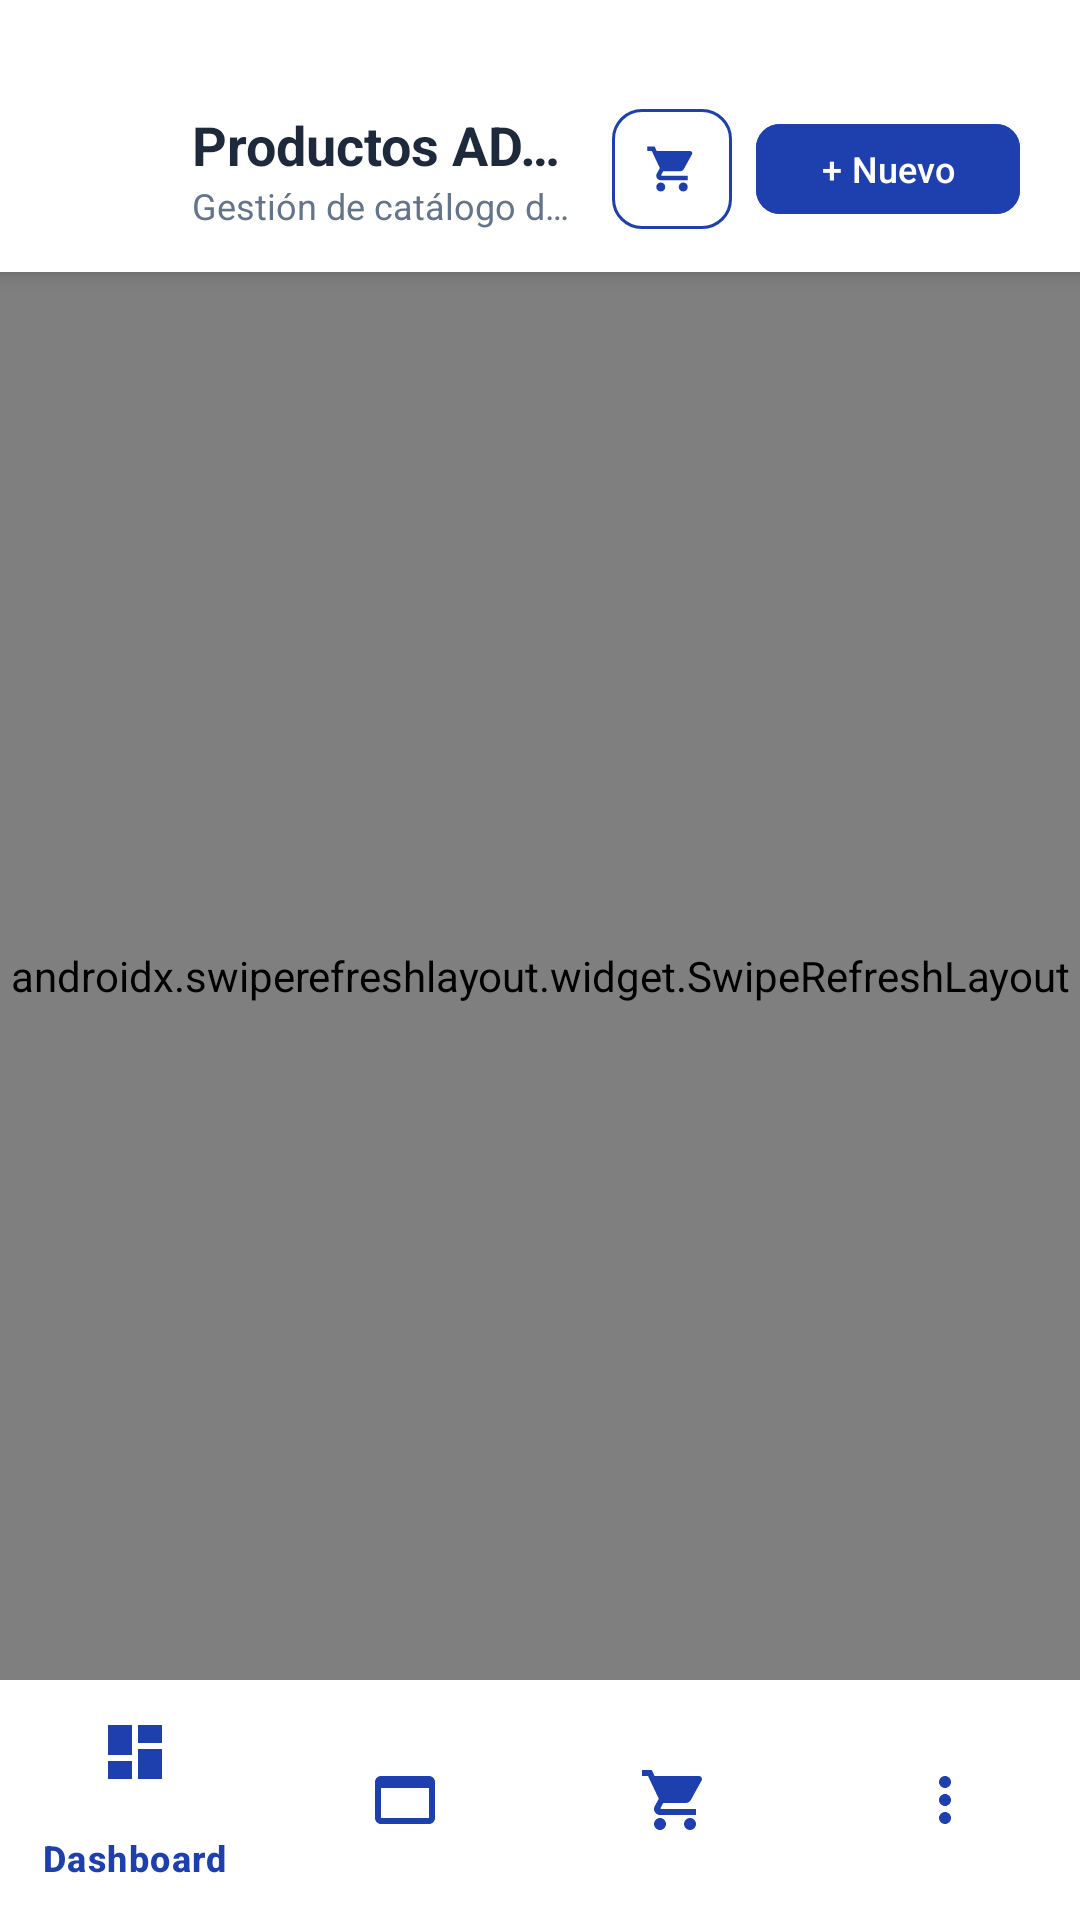

Locate icon controls on the screen. Image size 1080 × 1920, boxes as (x1, y1, x2, y2).
shopping cart: (612, 109, 732, 229)
